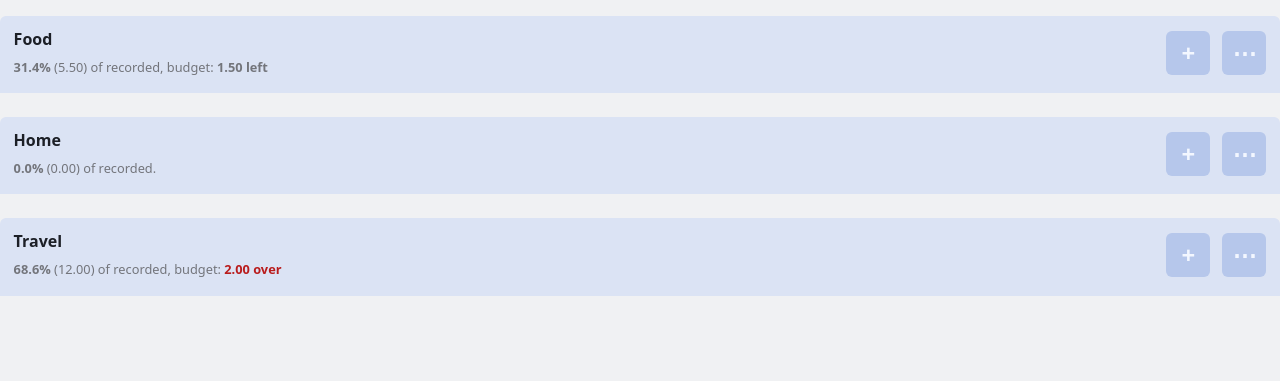
Test: CategoryItemsTable › uses discard for a new budget and discards without saving
This screenshot has width=1280, height=381.
Click the button named "Home item list menu" at (1244, 154), box [1222,132,1266,176]
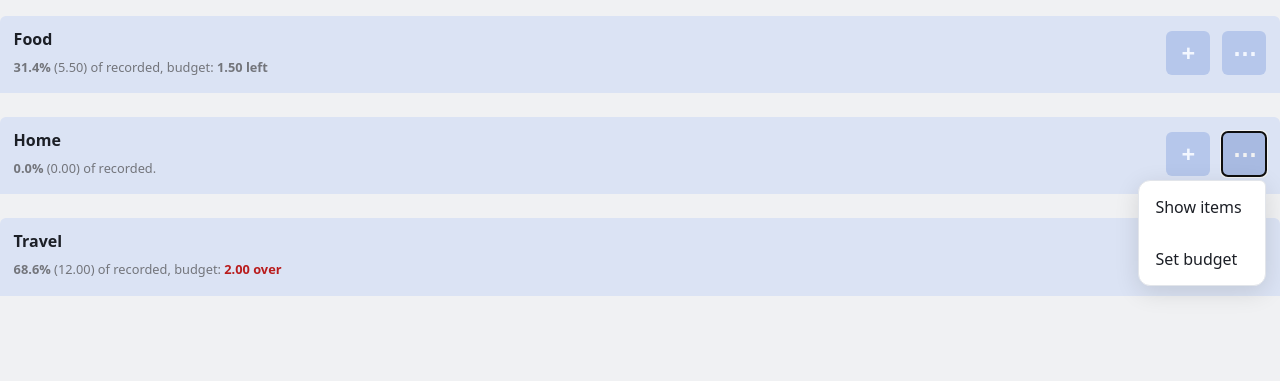
Click the menu item "Set budget" at (1202, 259), box [1143,237,1261,281]
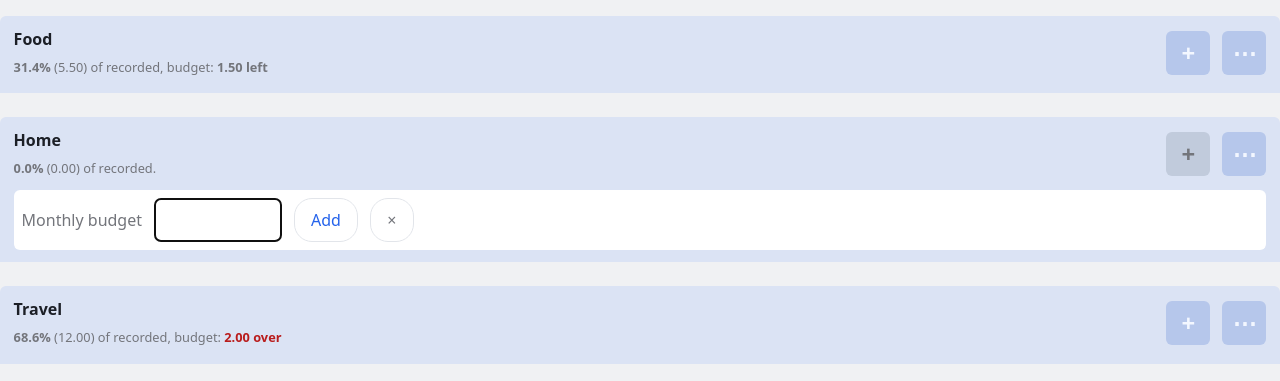
Click the button "Add" at (326, 220), box [294,198,358,242]
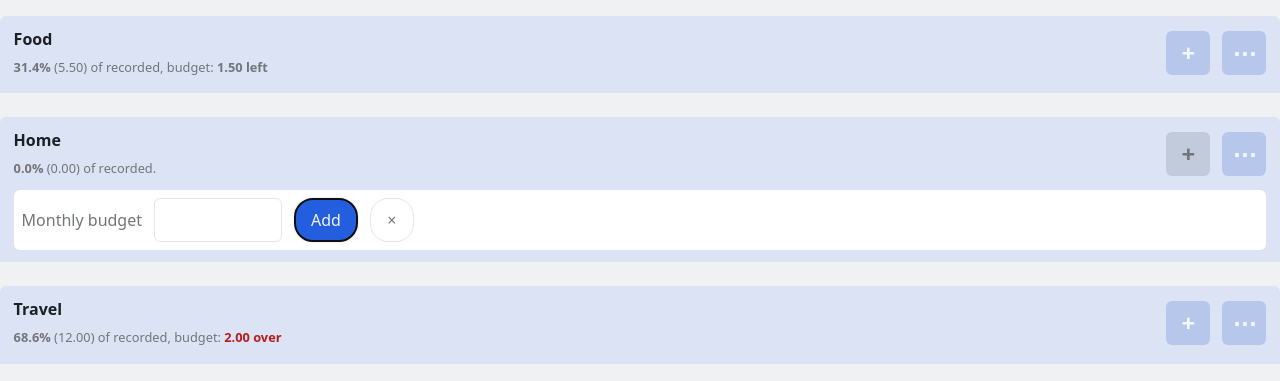
Type "4.25" into the field labelled "Monthly budget" at (218, 220), box [154,198,282,242]
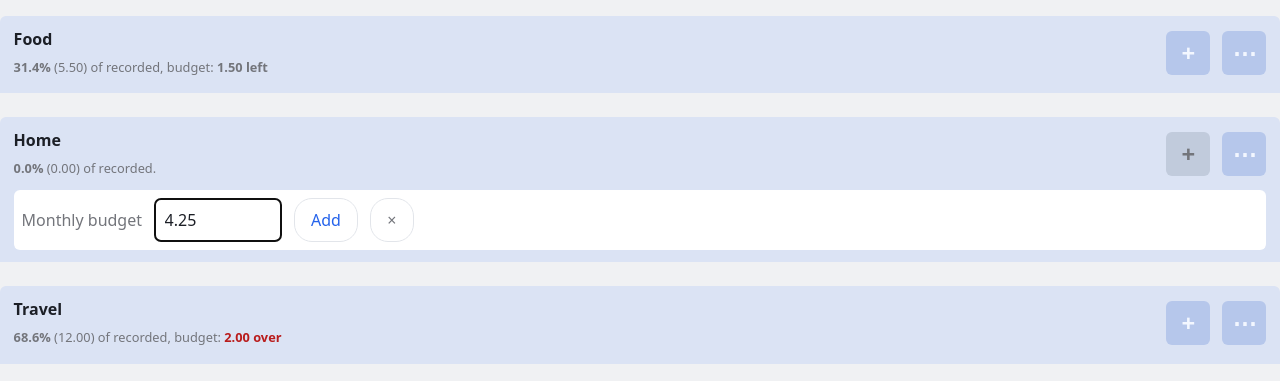
Click the button named "Discard" at (392, 220), box [370,198,414,242]
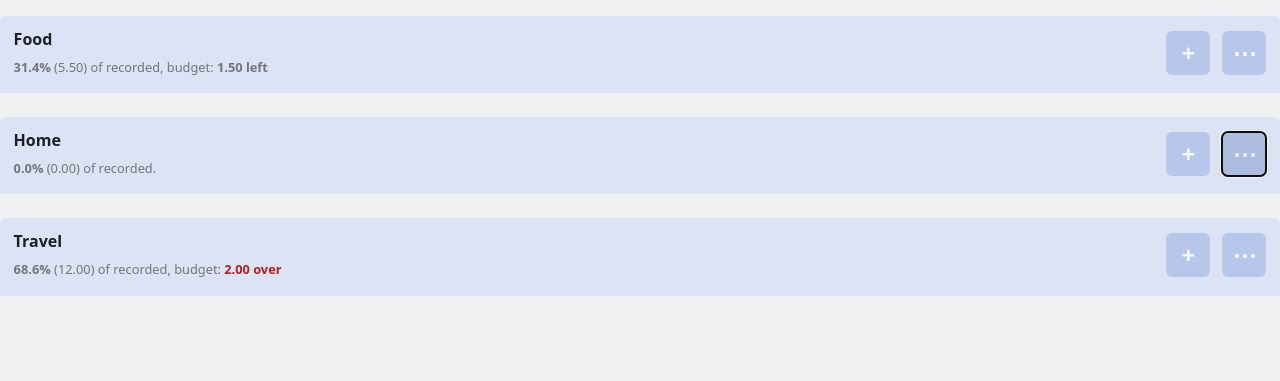
Expected: the label "Monthly budget" is gone
